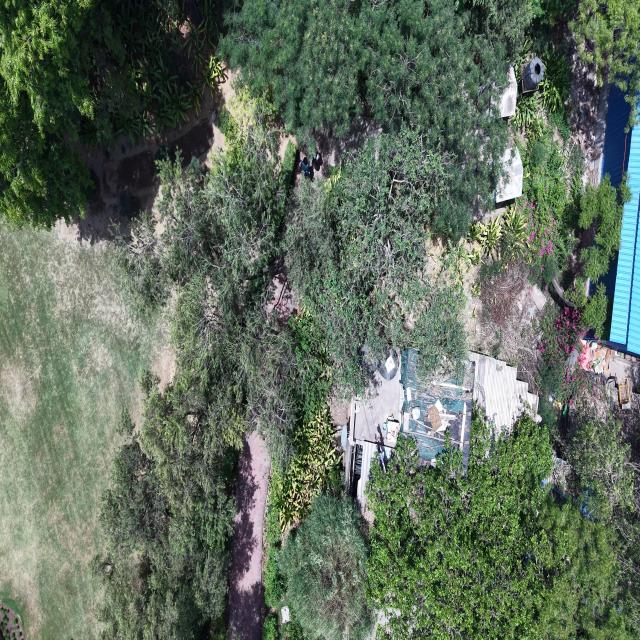DRY_AREA: (0, 72, 233, 638), (73, 69, 236, 242), (73, 70, 234, 242), (74, 91, 216, 241), (462, 265, 549, 392), (551, 24, 608, 186), (230, 432, 270, 639), (615, 391, 639, 460), (0, 602, 24, 639)
ROOFTOP_BUILDING: (344, 349, 538, 508), (345, 349, 473, 509), (582, 86, 639, 386), (402, 349, 538, 466), (602, 86, 639, 354), (344, 352, 403, 508), (402, 349, 474, 466), (610, 127, 639, 354), (469, 352, 538, 433), (351, 351, 403, 452), (600, 86, 631, 187), (580, 340, 639, 388), (495, 147, 523, 204), (488, 65, 518, 118), (496, 147, 523, 203), (497, 65, 518, 118), (500, 65, 517, 117)
VEGETATION_TREE: (0, 0, 639, 639), (124, 2, 637, 639), (122, 95, 636, 638), (0, 0, 637, 239), (96, 96, 340, 638), (97, 100, 342, 637), (96, 102, 298, 638), (220, 0, 533, 240), (219, 0, 533, 238), (0, 228, 167, 639), (122, 107, 297, 463), (362, 414, 638, 639), (361, 417, 637, 638), (368, 417, 636, 638), (368, 418, 637, 638), (369, 419, 636, 637), (467, 2, 638, 336), (0, 0, 221, 228), (463, 126, 627, 422), (285, 128, 464, 391), (222, 0, 533, 151), (513, 0, 638, 335), (368, 417, 551, 638), (94, 374, 235, 639), (448, 125, 583, 390), (539, 285, 639, 638), (466, 127, 628, 336), (124, 105, 286, 313), (478, 33, 582, 286), (264, 308, 343, 610), (552, 377, 639, 637), (517, 134, 629, 335), (223, 0, 367, 134), (90, 0, 222, 143), (466, 127, 583, 287), (263, 478, 371, 639), (270, 308, 342, 531), (0, 2, 112, 137), (535, 498, 637, 639), (0, 78, 93, 228), (279, 493, 374, 639), (552, 377, 638, 521), (536, 285, 617, 428), (518, 131, 581, 284), (271, 400, 341, 528), (511, 0, 574, 141), (569, 0, 639, 125), (470, 263, 537, 388), (565, 407, 637, 520), (263, 478, 306, 639), (512, 32, 570, 137), (405, 284, 466, 377), (579, 175, 630, 281), (288, 307, 332, 418), (538, 307, 588, 404), (264, 484, 286, 609), (439, 224, 483, 286), (569, 277, 609, 338), (540, 45, 569, 115), (501, 206, 528, 258), (582, 283, 608, 337), (512, 92, 542, 136), (262, 612, 305, 639), (536, 0, 576, 27), (279, 140, 297, 192), (478, 219, 501, 258), (0, 604, 24, 639), (549, 110, 571, 143), (217, 107, 233, 135), (262, 613, 278, 640)
